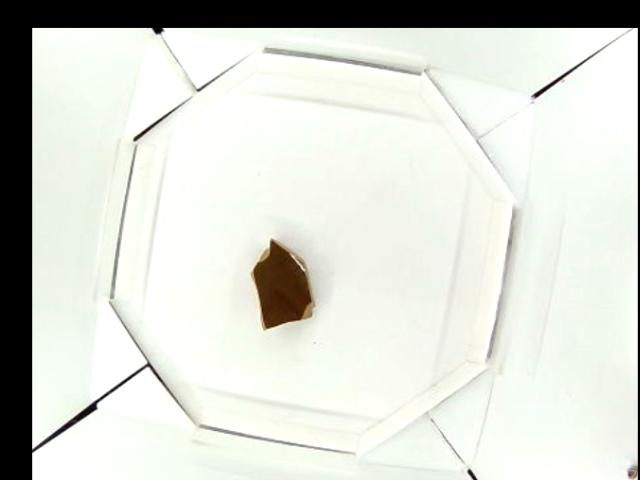China: (248, 237, 317, 331)
